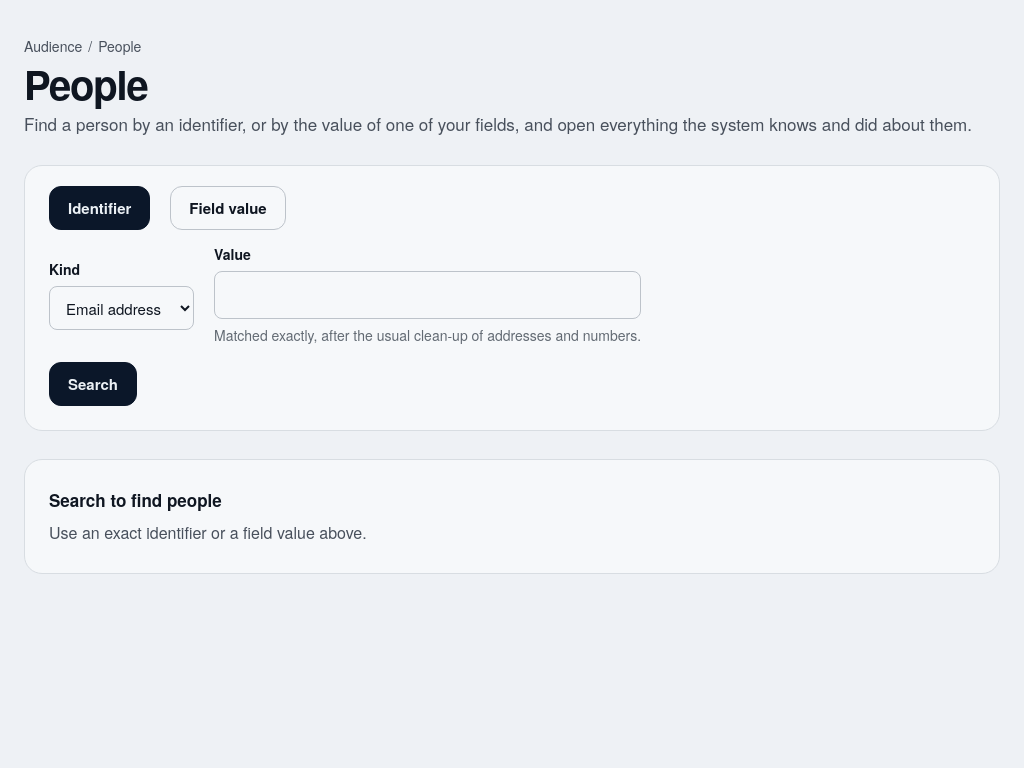
people search › asks for a value instead of searching for nothing
This screenshot has width=1024, height=768.
Click the button "Search".
click(93, 384)  # box [49,362,137,406]
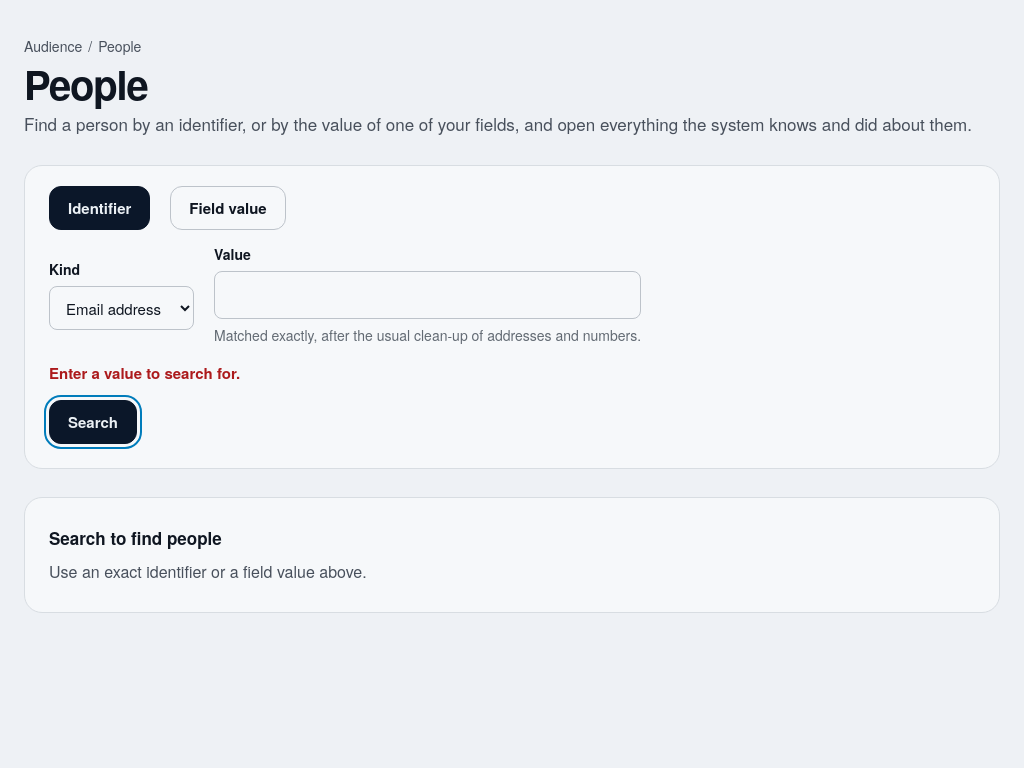
Result: the message reads "Enter a value to search for." at [49,362,240,384]
